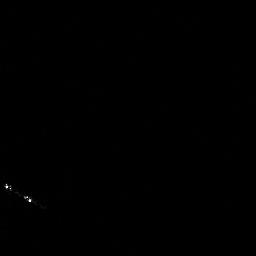ship: (3, 181, 43, 207)
